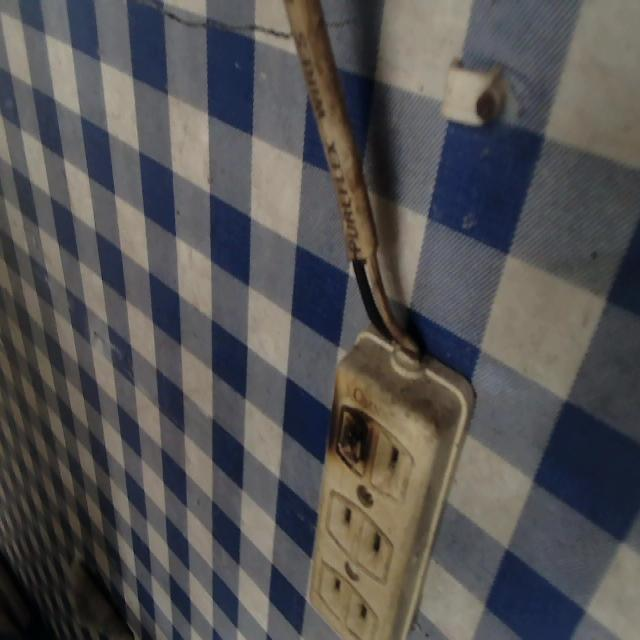-: (323, 392, 378, 480)
